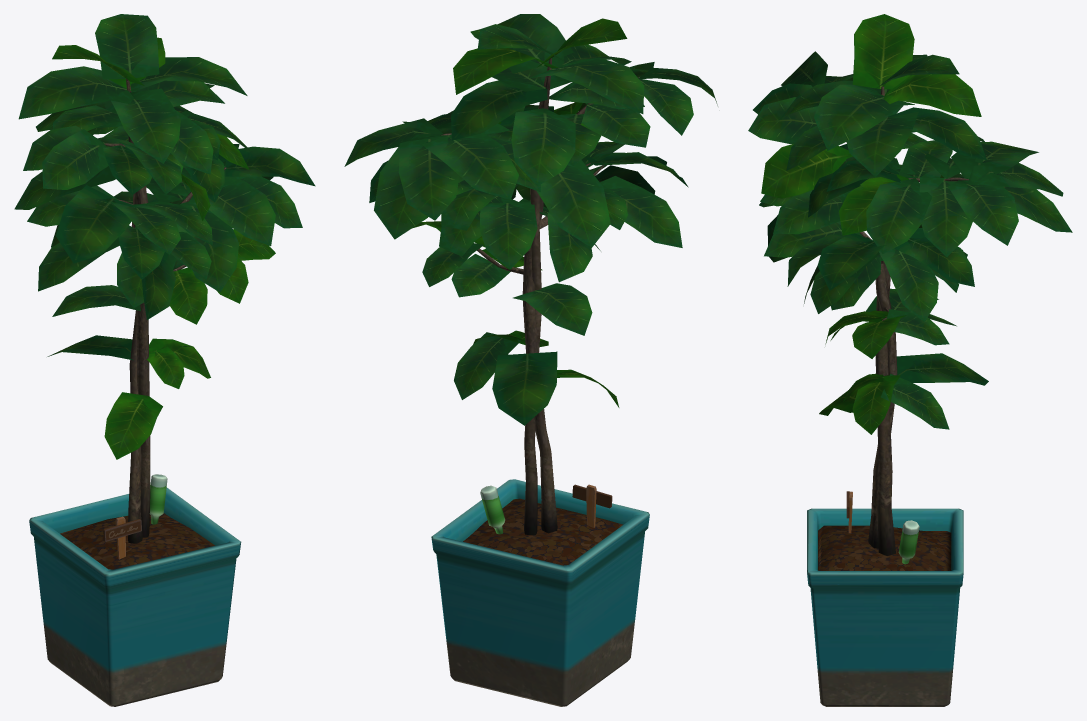
The model's file is CafeTree.glb.
The picture shows the model from 3 angles, left to right: view 1: azimuth 30°, elevation 25°; view 2: azimuth 150°, elevation 25°; view 3: azimuth 270°, elevation 25°; orthographic projection. The views are drawn at different scales.
Visible parts, largest first — view 1: pCylinder353__mPlant, flowerpot__mBody; view 2: pCylinder353__mPlant, flowerpot__mBody; view 3: pCylinder353__mPlant, flowerpot__mBody.
Part boxes in pixels (<box>): pCylinder353__mPlant: <box>14,14,315,543</box>; flowerpot__mBody: <box>29,474,241,706</box>; pCylinder353__mPlant: <box>344,14,717,534</box>; flowerpot__mBody: <box>431,479,649,706</box>; pCylinder353__mPlant: <box>748,14,1072,555</box>; flowerpot__mBody: <box>807,491,963,706</box>.
Size of the model in its own units: 0.7758 by 1.65 by 0.7722.
Materials: 2 (2 with a texture image).
